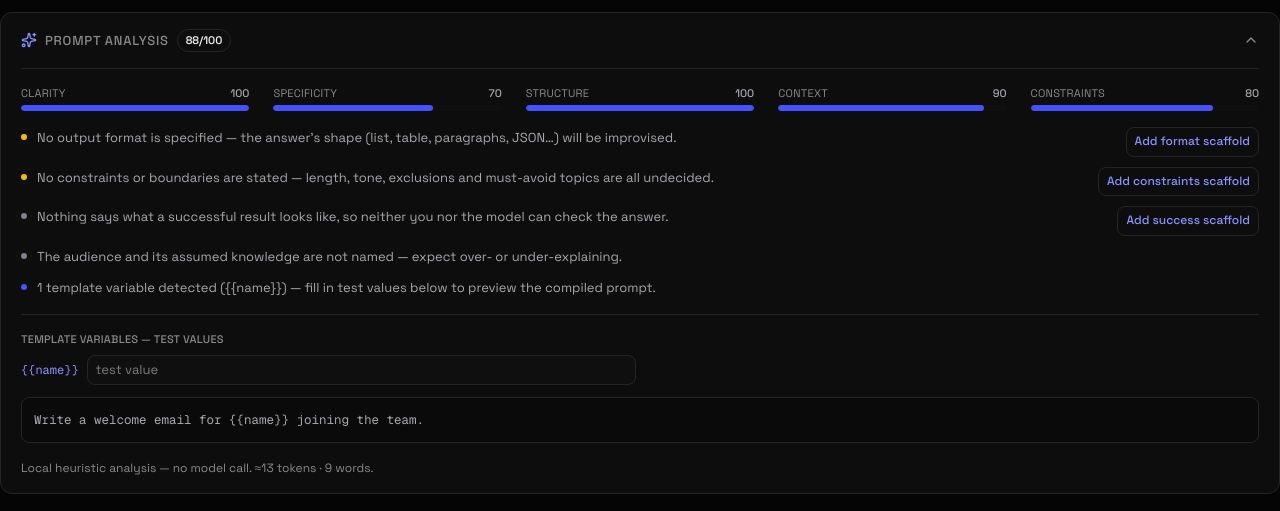
Scenario: PromptAnalysisPanel › renders variable inputs and a compiled preview
The width and height of the screenshot is (1280, 511).
Type "Ana" into the field with placeholder "test value" at (361,370), box [87, 355, 636, 385]
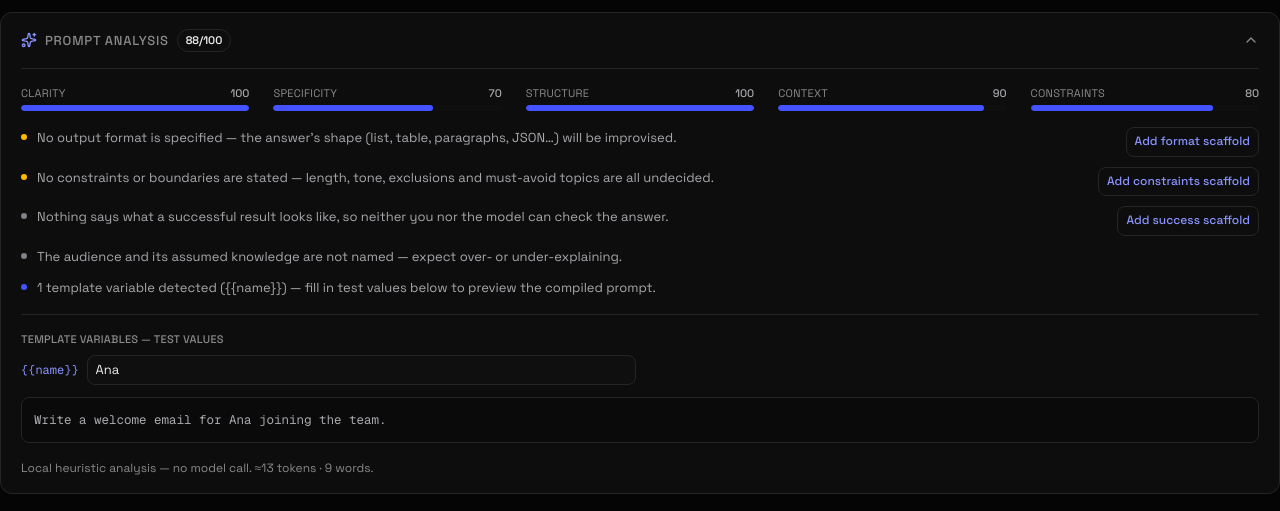
Expected: the text "Write a welcome email for Ana joining the team." is shown, [21, 397, 1259, 443]
